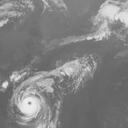cyclone: (10, 81, 52, 125)
